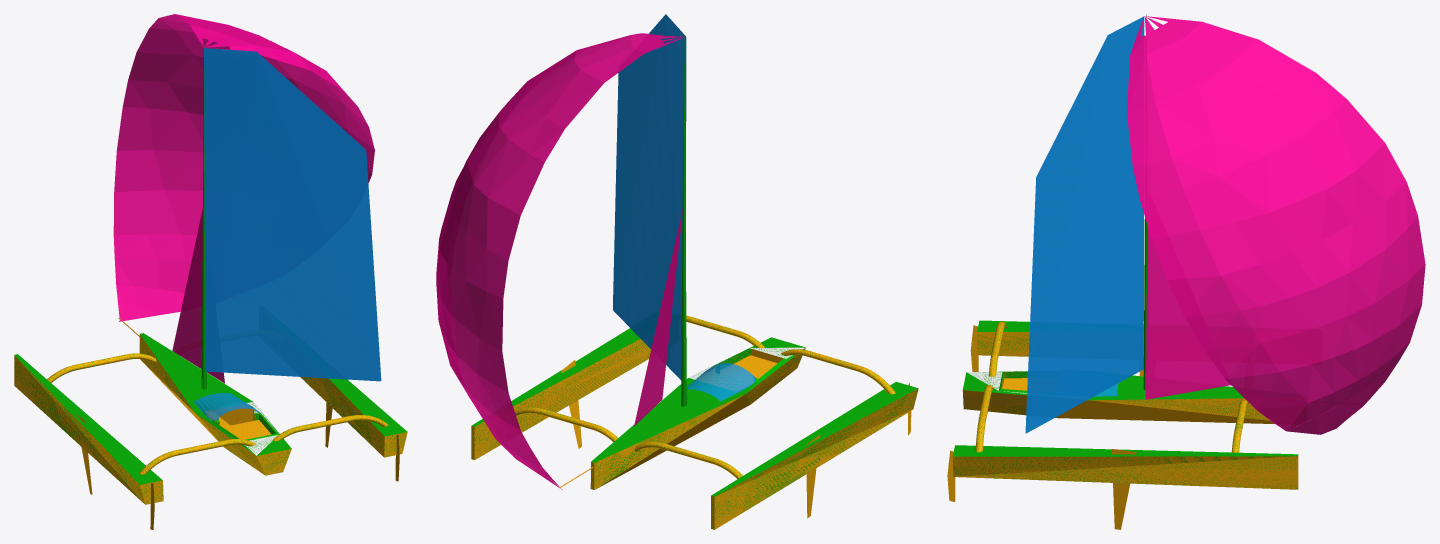
Rendered from genak_babord_trimaran.dae.
3 views of the same model, side by side, from view 1: azimuth 30°, elevation 25°; view 2: azimuth 150°, elevation 25°; view 3: azimuth 270°, elevation 25° (orthographic). The views are drawn at different scales.
Parts seen in each view (by area): view 1: SketchUp (×17); view 2: SketchUp (×18); view 3: SketchUp (×12).
Part boxes in pixels (x1,y1,x2,y2): SketchUp (×17): (14, 14, 407, 504); SketchUp (×18): (436, 14, 918, 529); SketchUp (×12): (952, 14, 1425, 529).
Size of the model in its own units: 109573 by 127467 by 135024.
21 materials, 5 textured.
